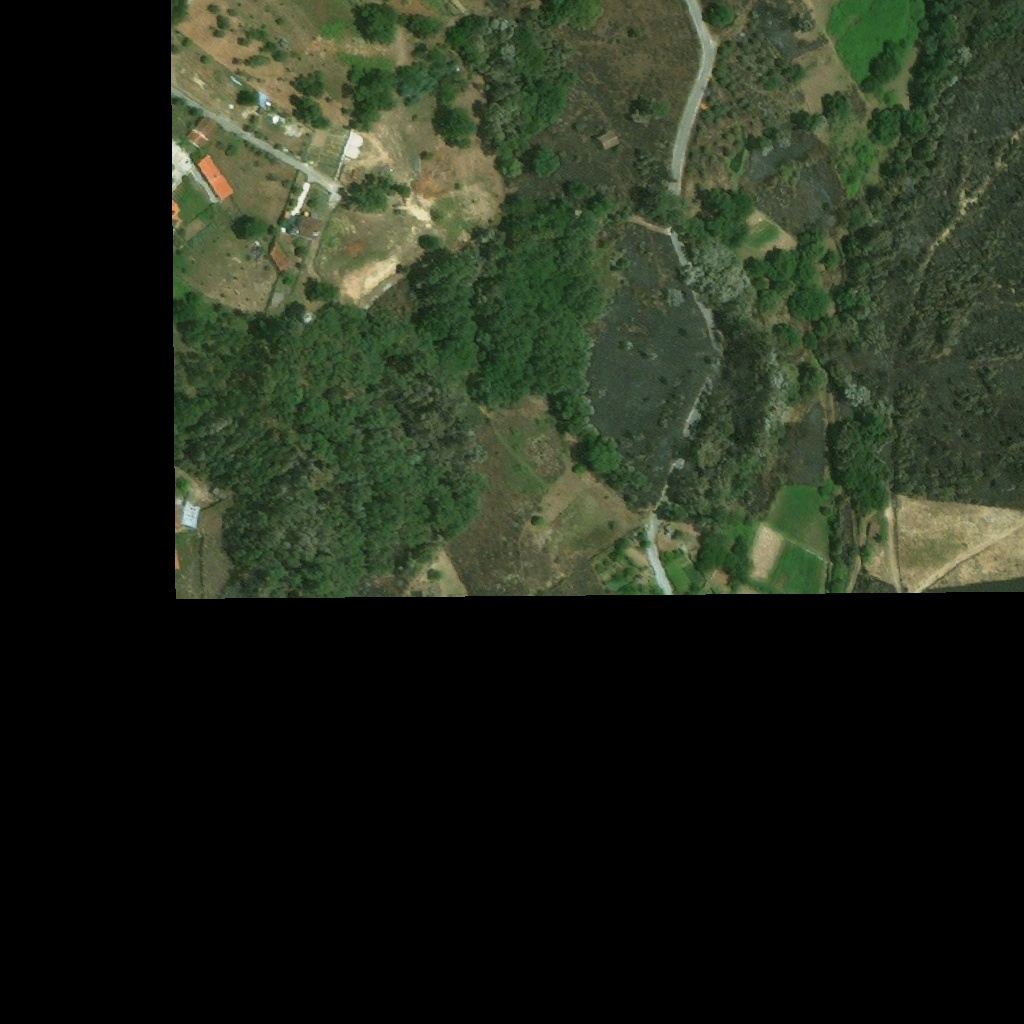0 no-damage: (196, 159, 233, 202), (186, 116, 218, 147), (292, 214, 323, 239), (268, 246, 291, 272), (595, 130, 616, 150), (183, 501, 198, 528), (252, 89, 270, 107), (868, 524, 880, 539), (278, 38, 288, 47)
